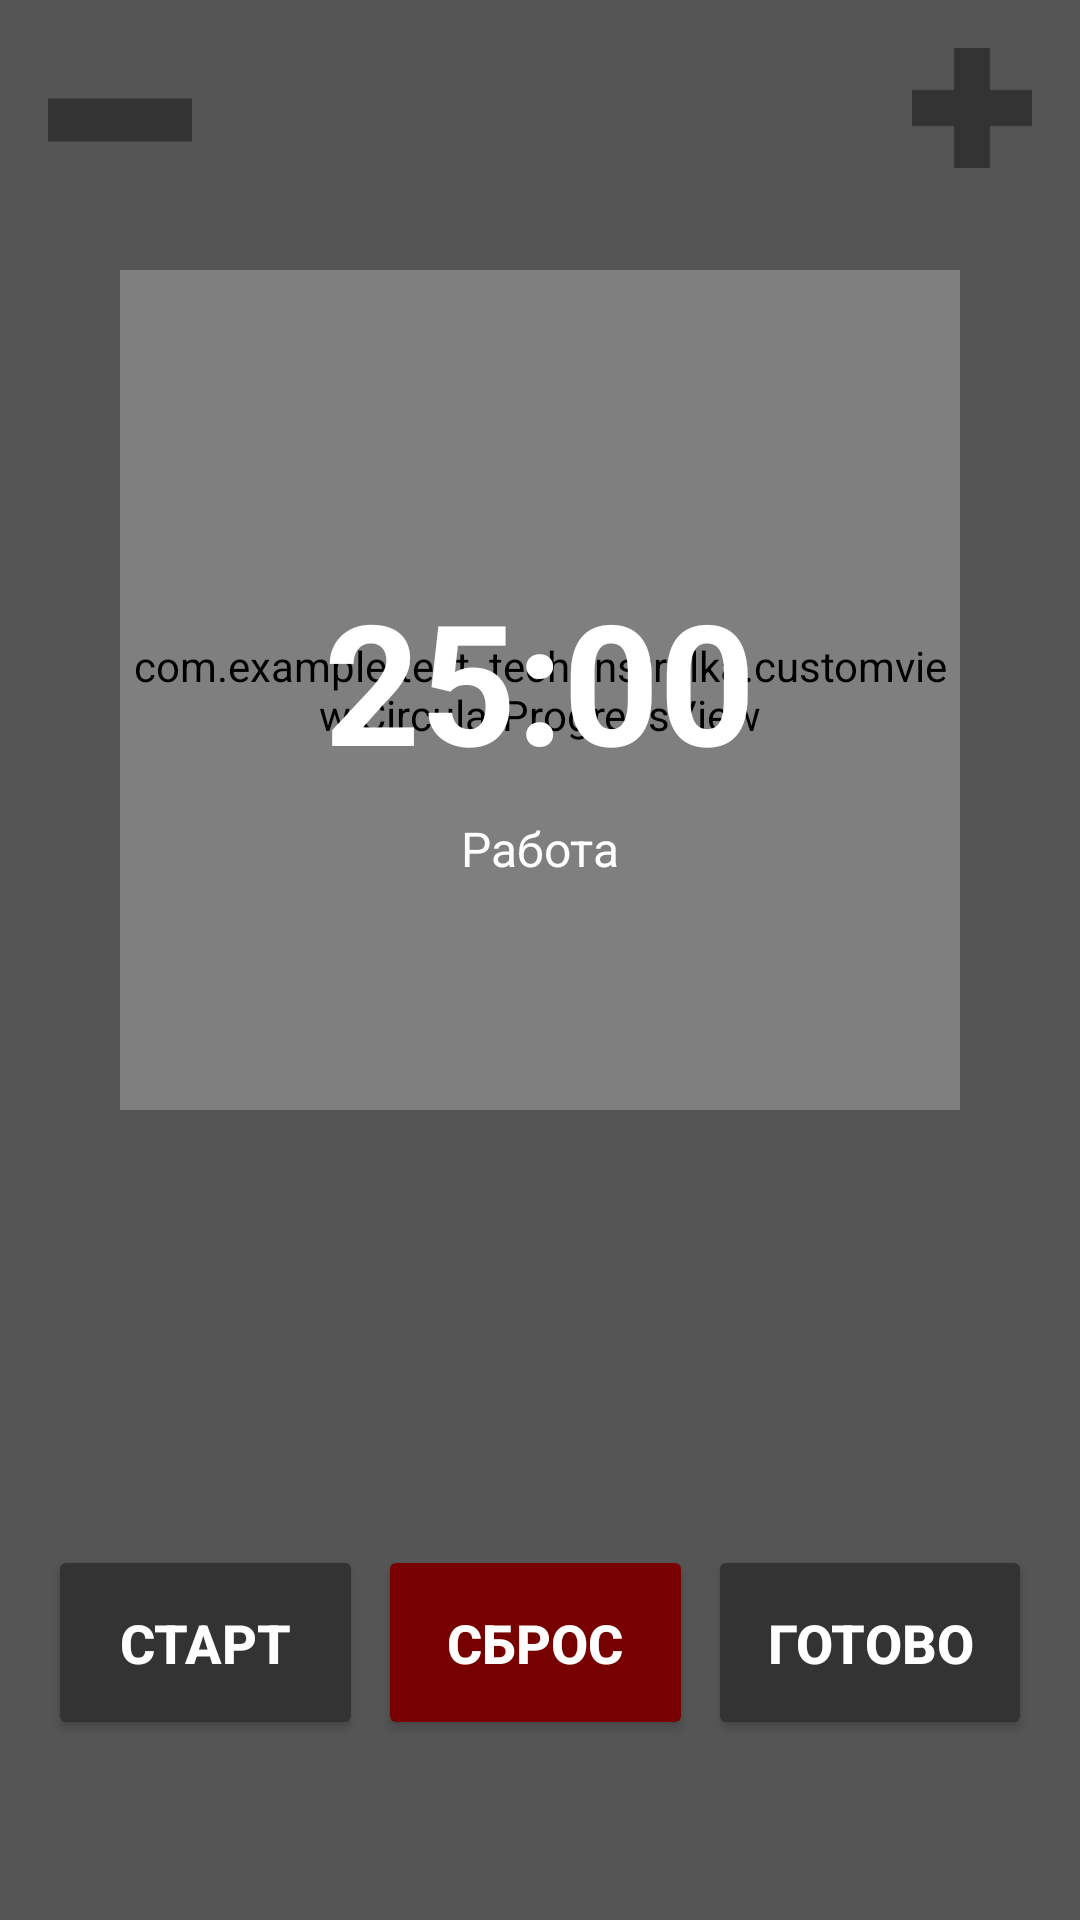

Icons on this 1080×1920 Android screen, each with the point to tap as [x,y]:
plus: [972,108]
